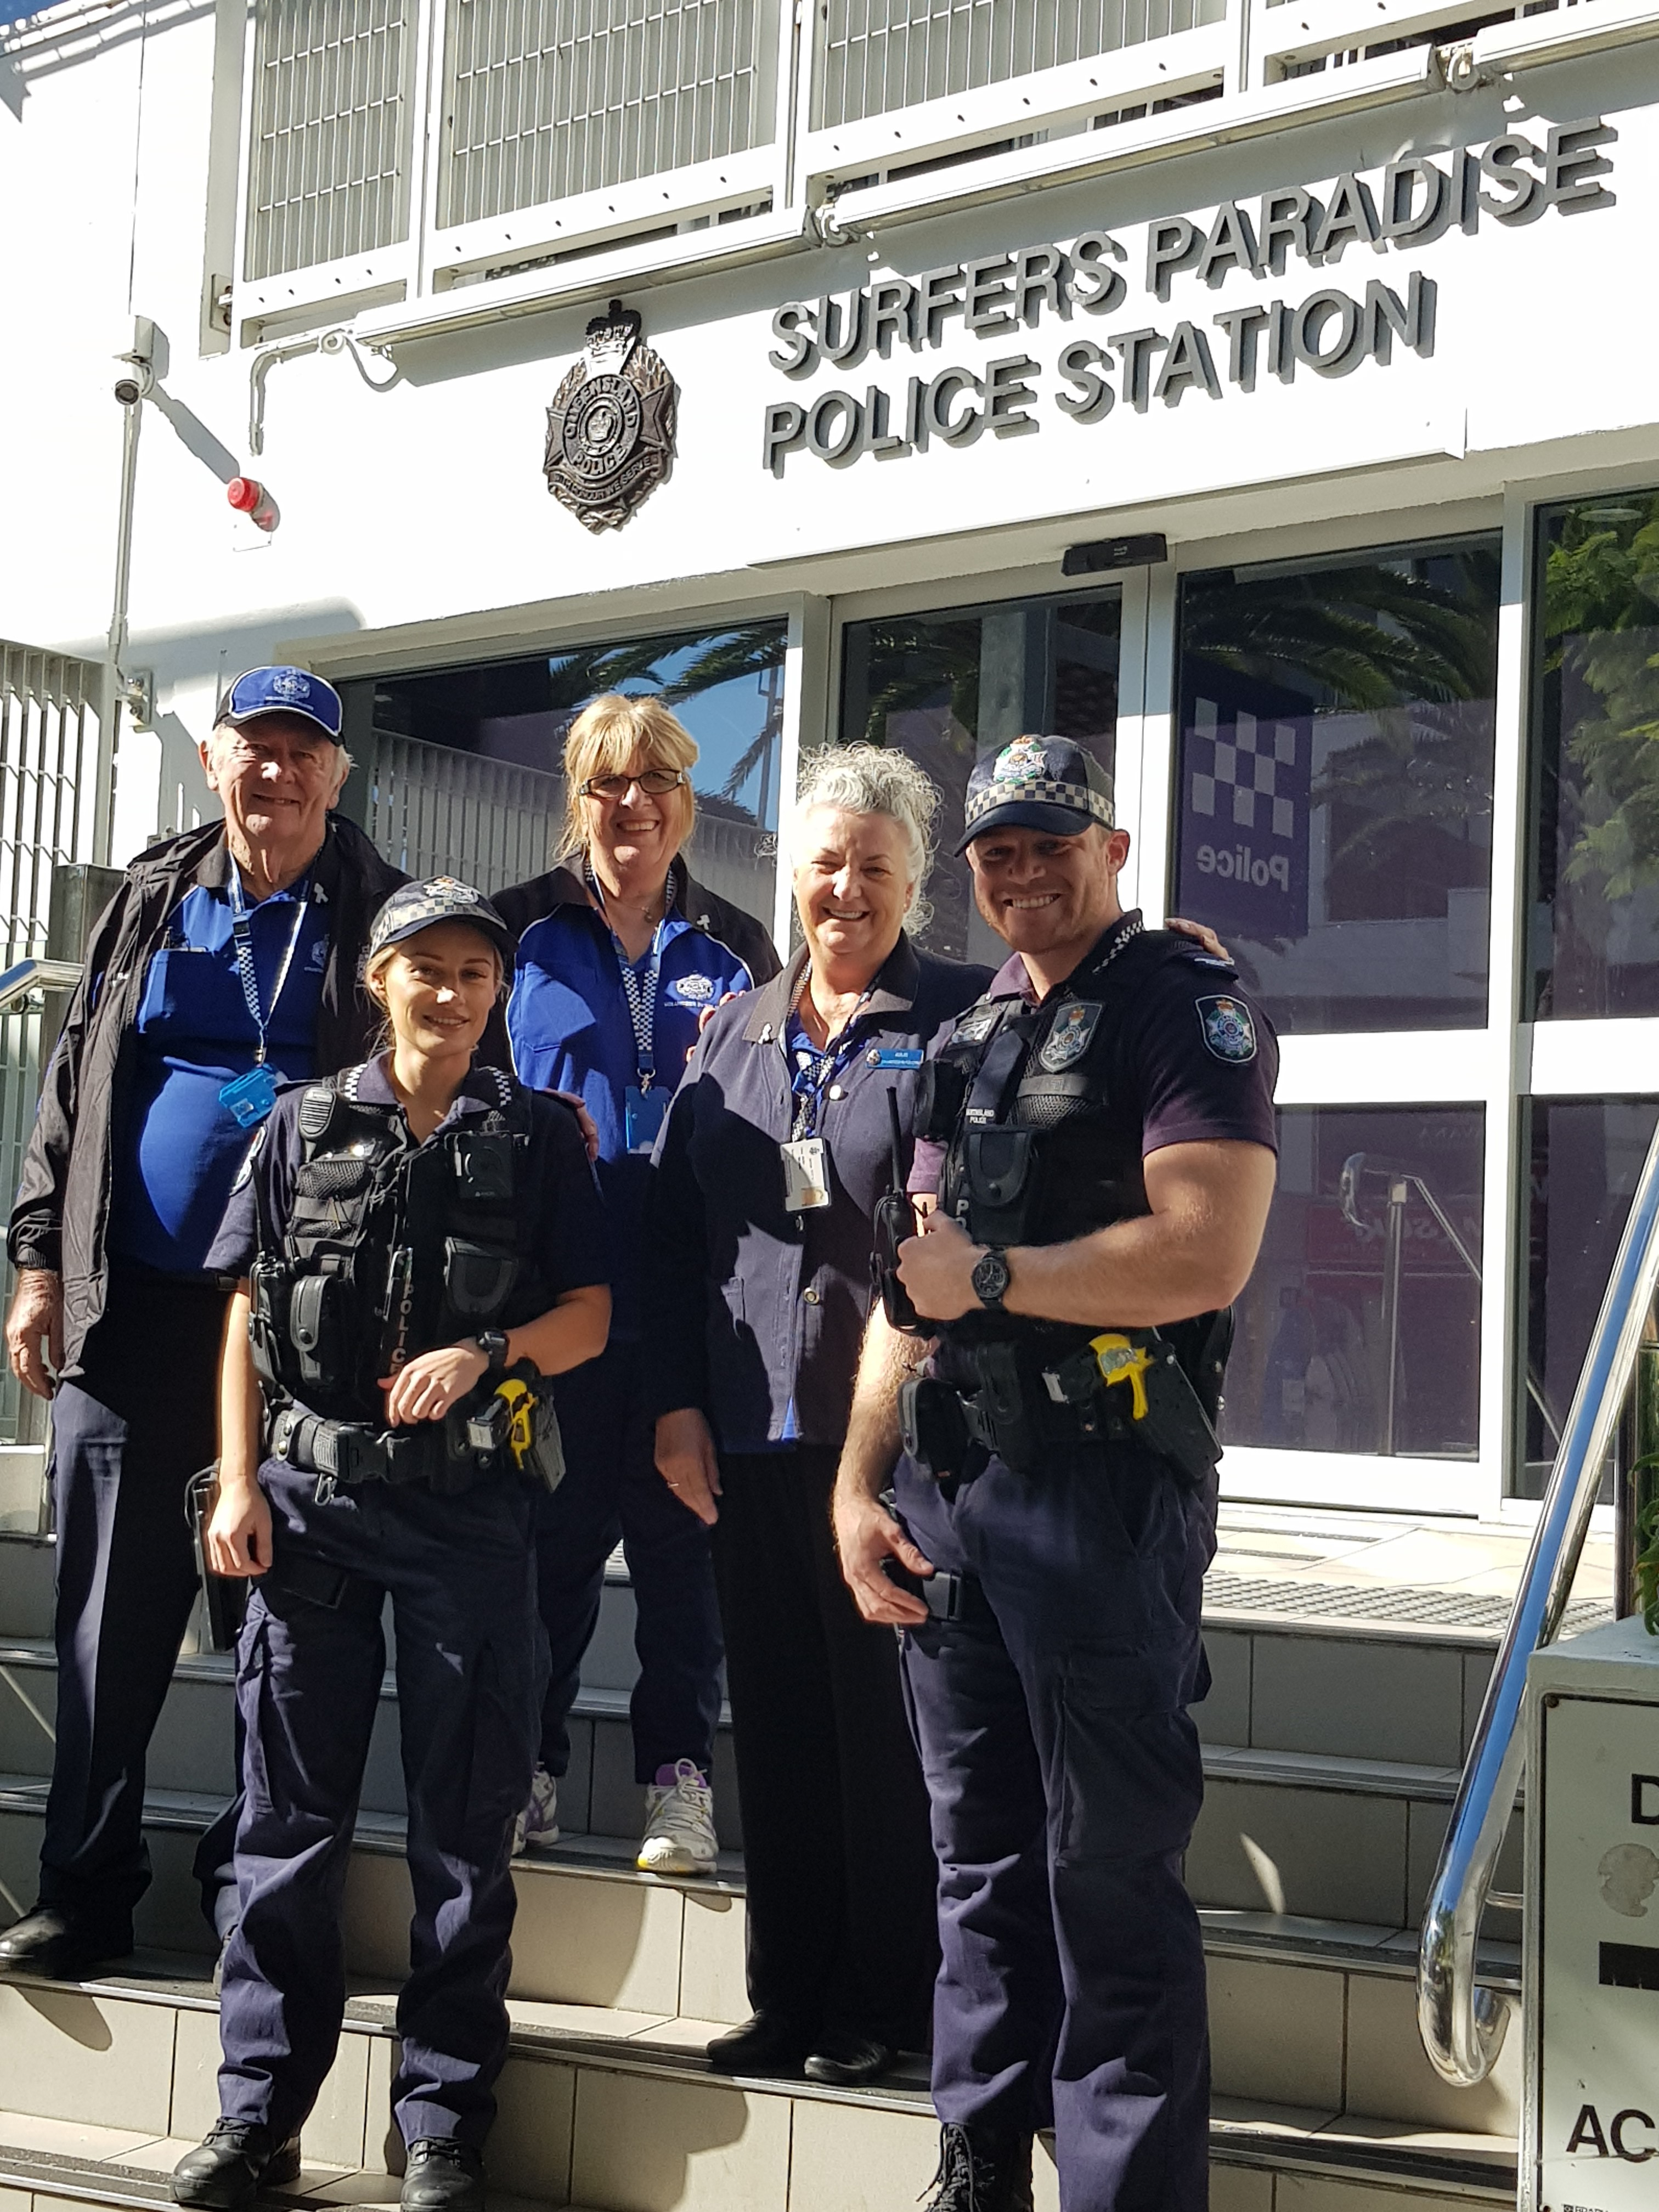Person: (186, 875, 615, 2212), (924, 733, 1276, 1446), (57, 661, 373, 1049), (690, 718, 934, 1224), (510, 696, 782, 1000)
